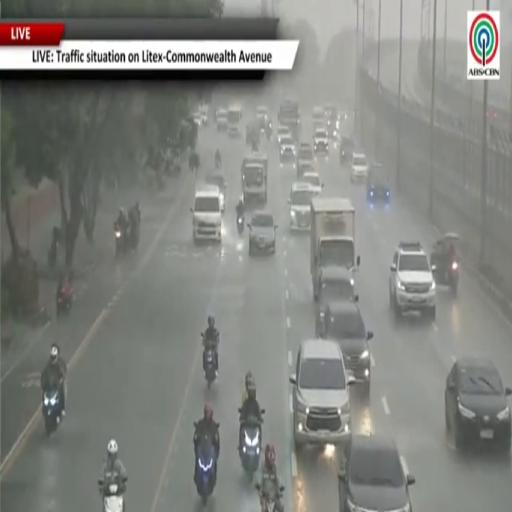car: (290, 340, 354, 450), (445, 357, 511, 452), (339, 435, 415, 511), (320, 300, 373, 398), (390, 242, 435, 321), (191, 185, 221, 243), (317, 265, 356, 307), (247, 210, 278, 255), (288, 183, 314, 231), (367, 164, 390, 203), (206, 173, 226, 212), (351, 152, 369, 183), (279, 136, 296, 168), (256, 106, 272, 139), (301, 171, 323, 195), (325, 104, 339, 140), (297, 142, 314, 170), (313, 126, 329, 155), (340, 137, 354, 164), (256, 106, 269, 131), (297, 162, 315, 179), (277, 125, 291, 145), (216, 109, 228, 131), (313, 107, 324, 126), (198, 105, 208, 125), (193, 111, 202, 125)
motorcycle: (195, 439, 217, 506), (239, 418, 261, 481), (42, 384, 62, 436), (201, 333, 218, 389), (432, 260, 459, 295), (98, 477, 124, 511), (256, 484, 276, 511), (204, 348, 217, 389), (57, 288, 73, 316), (114, 223, 125, 257), (237, 216, 244, 234), (215, 157, 221, 169)
truck: (310, 197, 360, 300), (241, 153, 267, 203), (279, 100, 300, 140), (228, 105, 242, 138)
